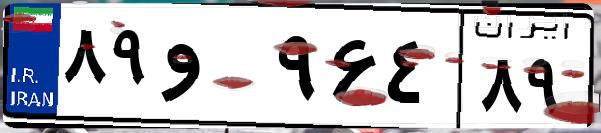4: (385, 28, 445, 110)
6: (330, 28, 385, 110)
8: (57, 26, 110, 100), (475, 38, 525, 113)
9: (270, 28, 330, 110), (525, 38, 570, 115), (110, 28, 158, 98)
و: (158, 20, 270, 120)
